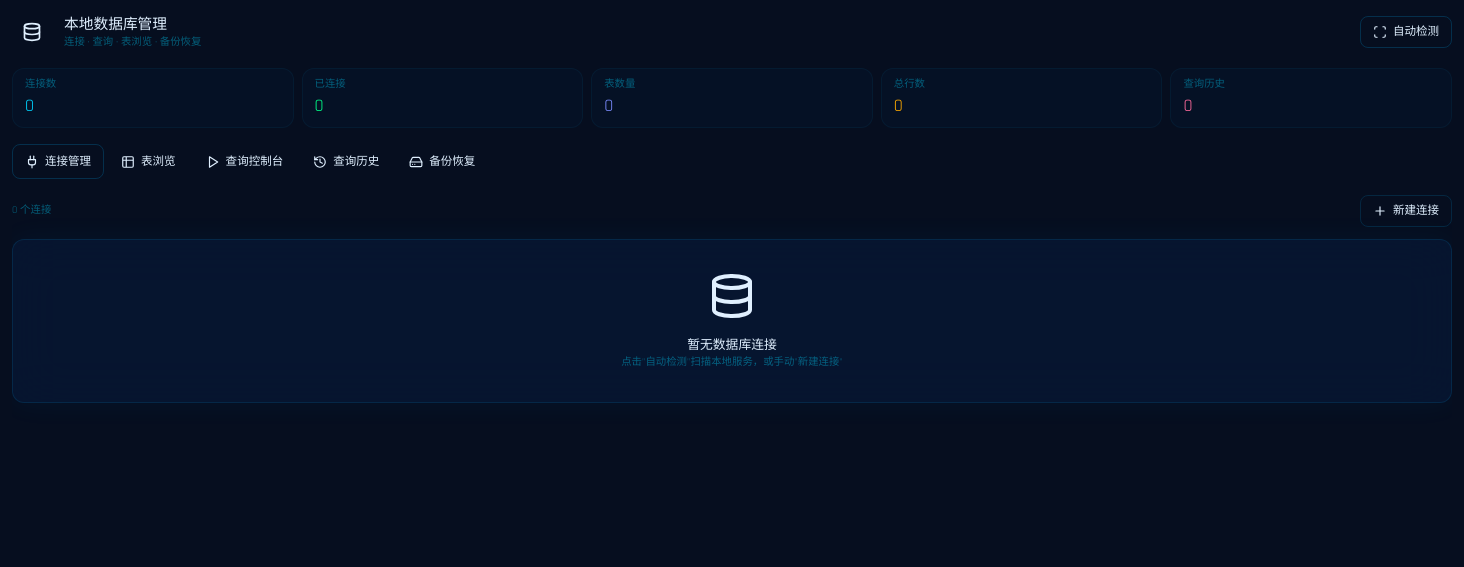
Test: DatabaseManager › 查询台应回显 sqlInput 且未连接时执行按钮禁用
Click the button "查询控制台": (244, 162) [193,144,296,179]
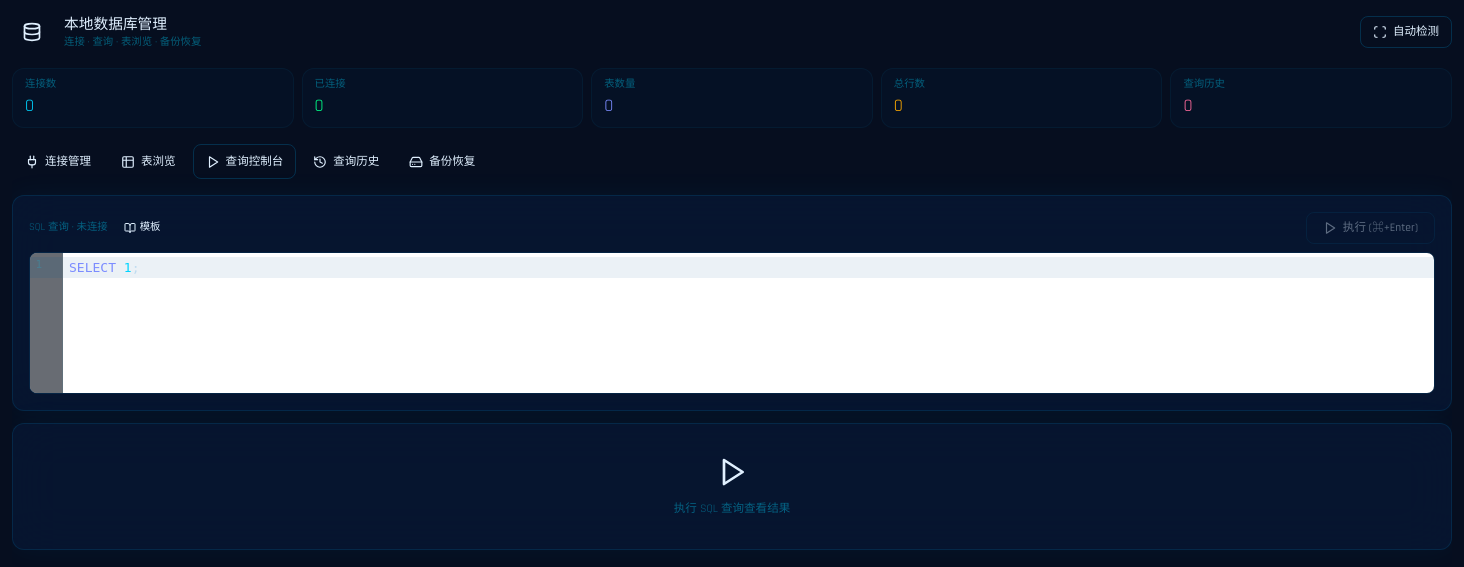
Now the text "SQL 查询 · 未连接" is shown, box [29,220,108,236]
Now the button "执行 (⌘+Enter)" is disabled, box [1306,212,1435,244]
